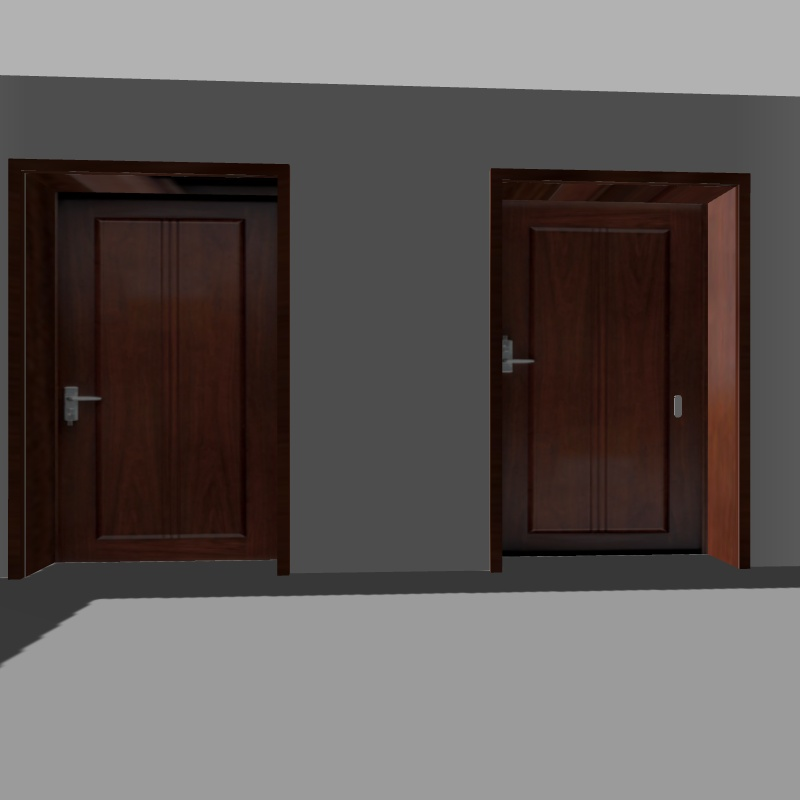handle: (54, 377, 108, 429), (494, 330, 537, 382)
